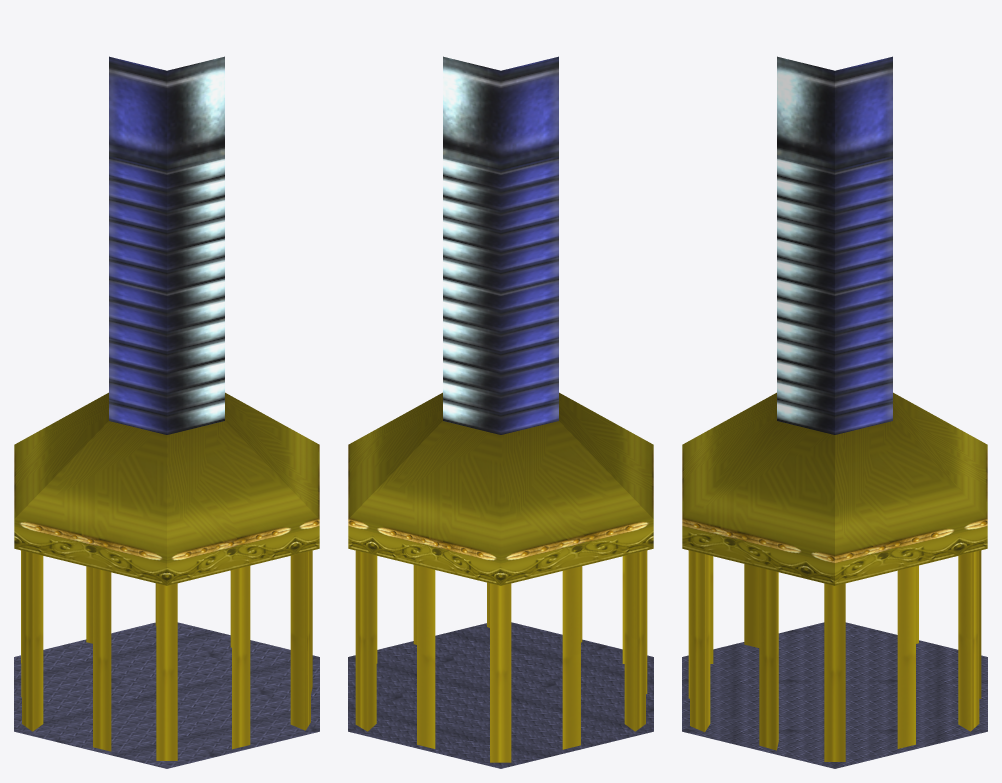
Rendered from cage.glb.
3 renders of one model, left to right at view 1: azimuth 30°, elevation 25°; view 2: azimuth 150°, elevation 25°; view 3: azimuth 270°, elevation 25°, orthographic.
Parts seen in each view (by area): view 1: cage; view 2: cage; view 3: cage.
Boxes of the visible parts, x1=… form: cage: x1=14, y1=56, x2=319, y2=768; cage: x1=348, y1=56, x2=653, y2=768; cage: x1=682, y1=56, x2=987, y2=768.
Bounding box in the file's own units: 480 × 1027 × 415.
4 materials, 4 textured.
